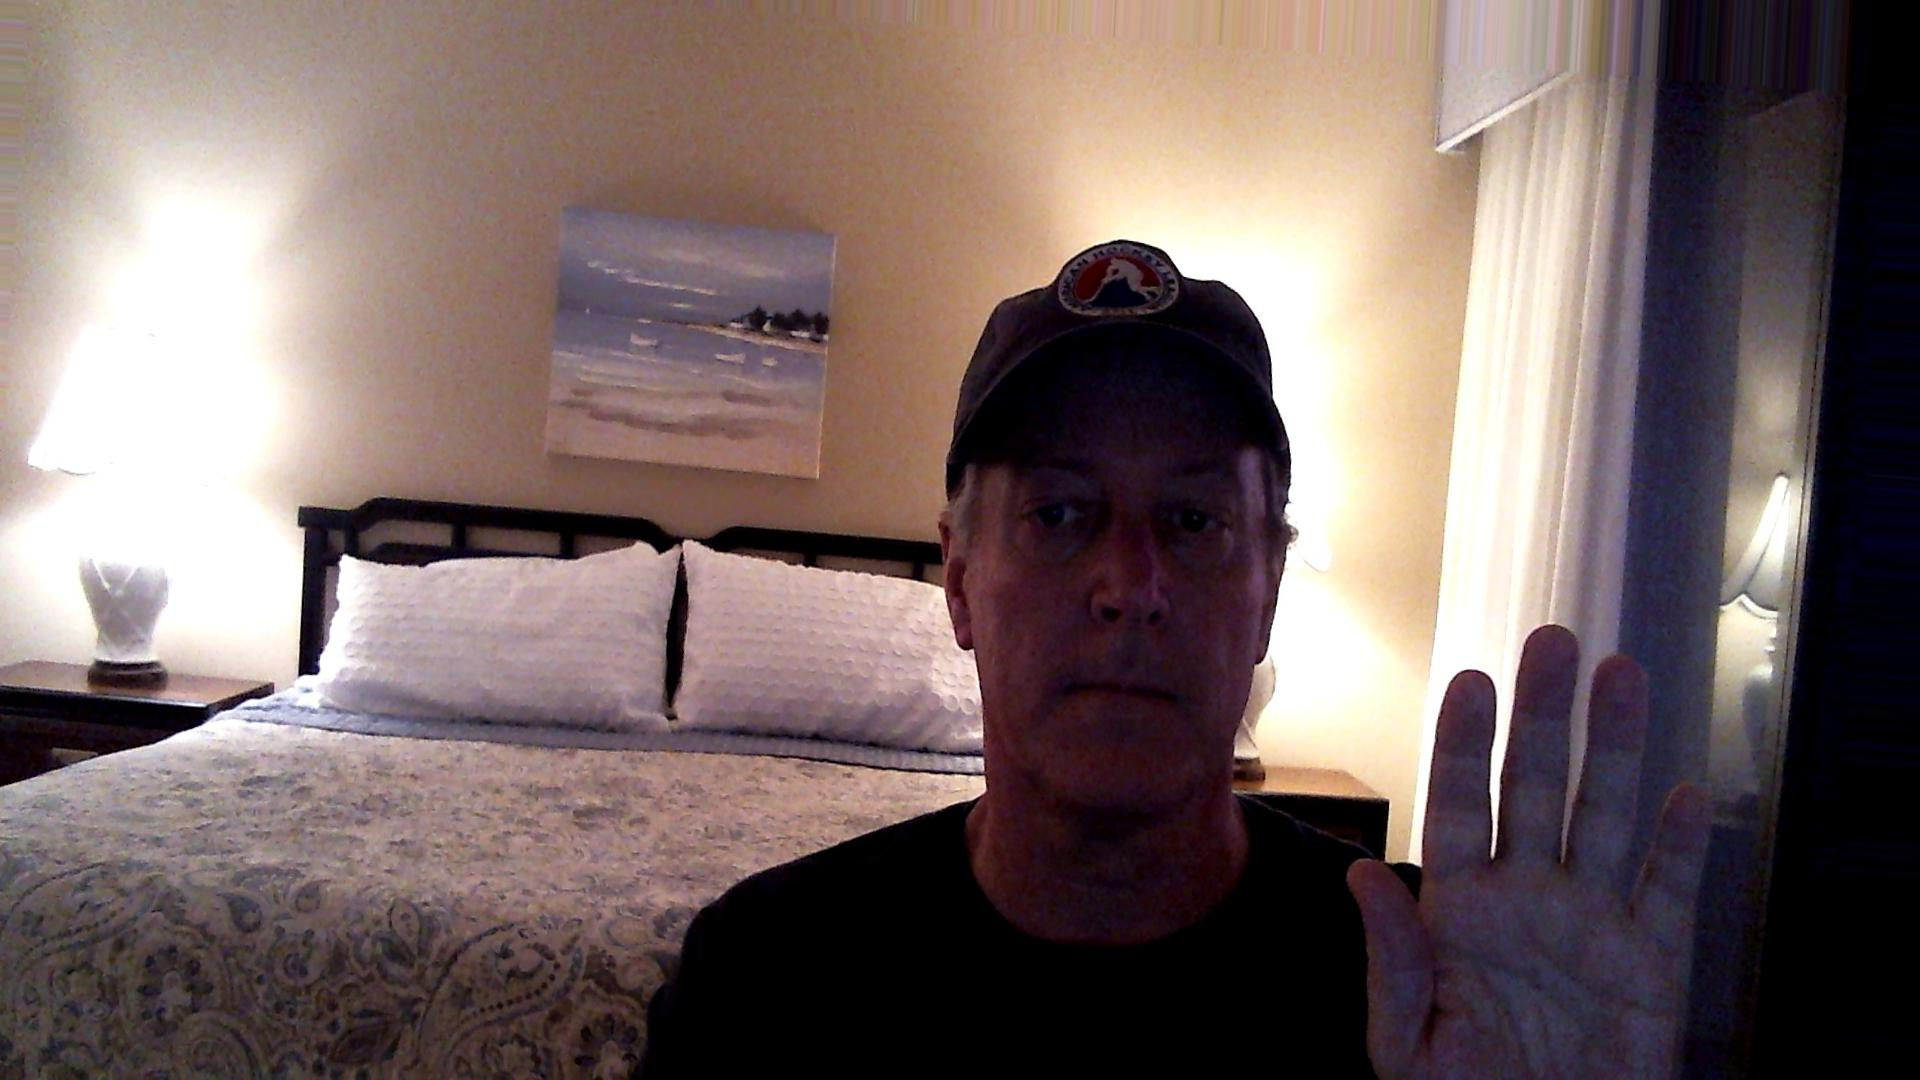Hello: (1329, 603, 1760, 1080)
